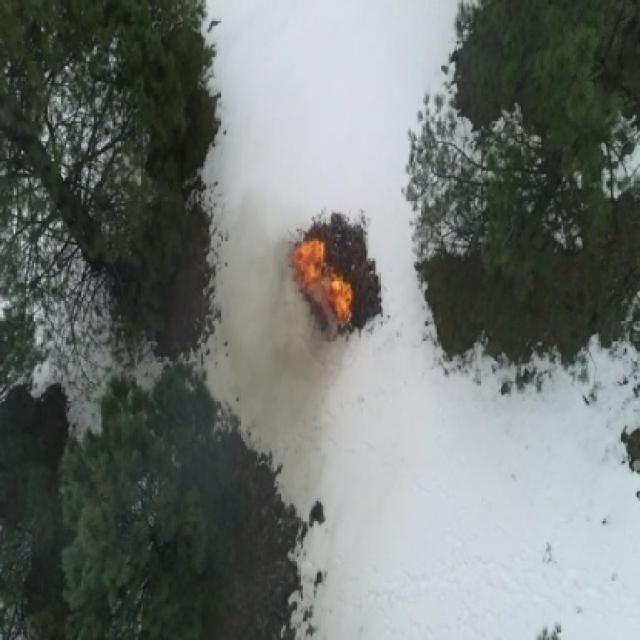Fire: (291, 242, 324, 289), (329, 269, 354, 329), (308, 290, 329, 315)
